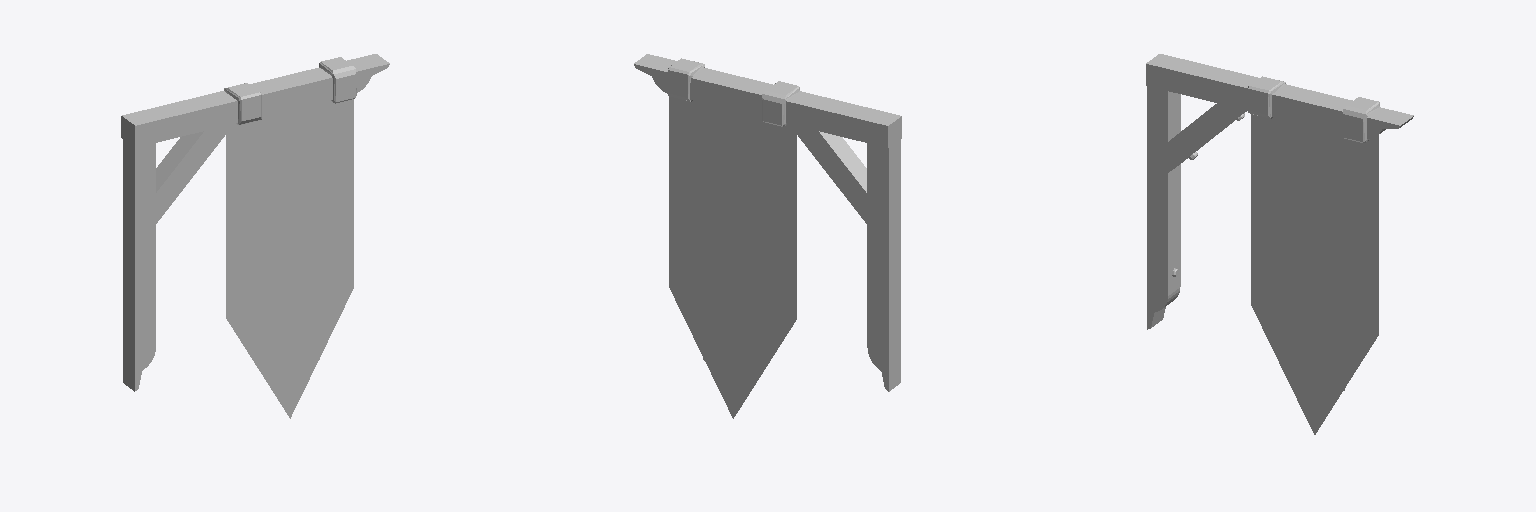
File: Banner_2.obj
3 renders of one model, left to right at view 1: azimuth 30°, elevation 25°; view 2: azimuth 150°, elevation 25°; view 3: azimuth 330°, elevation 25°, orthographic.
Visible parts, largest first — view 1: Banner_2_Cube.236; view 2: Banner_2_Cube.236; view 3: Banner_2_Cube.236.
Part boxes in pixels (left/top/right/bottom): Banner_2_Cube.236: left=121, top=54, right=389, bottom=418; Banner_2_Cube.236: left=634, top=54, right=901, bottom=418; Banner_2_Cube.236: left=1146, top=54, right=1413, bottom=434.
Bounding box in the file's own units: 1.61 × 2.08 × 0.1906.